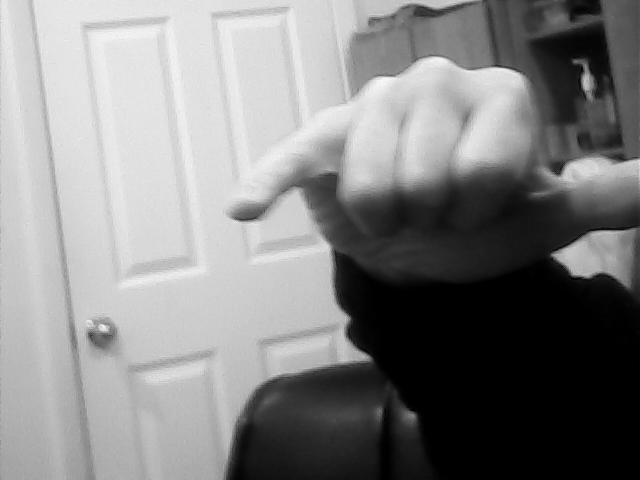aloha: (219, 54, 640, 285)
